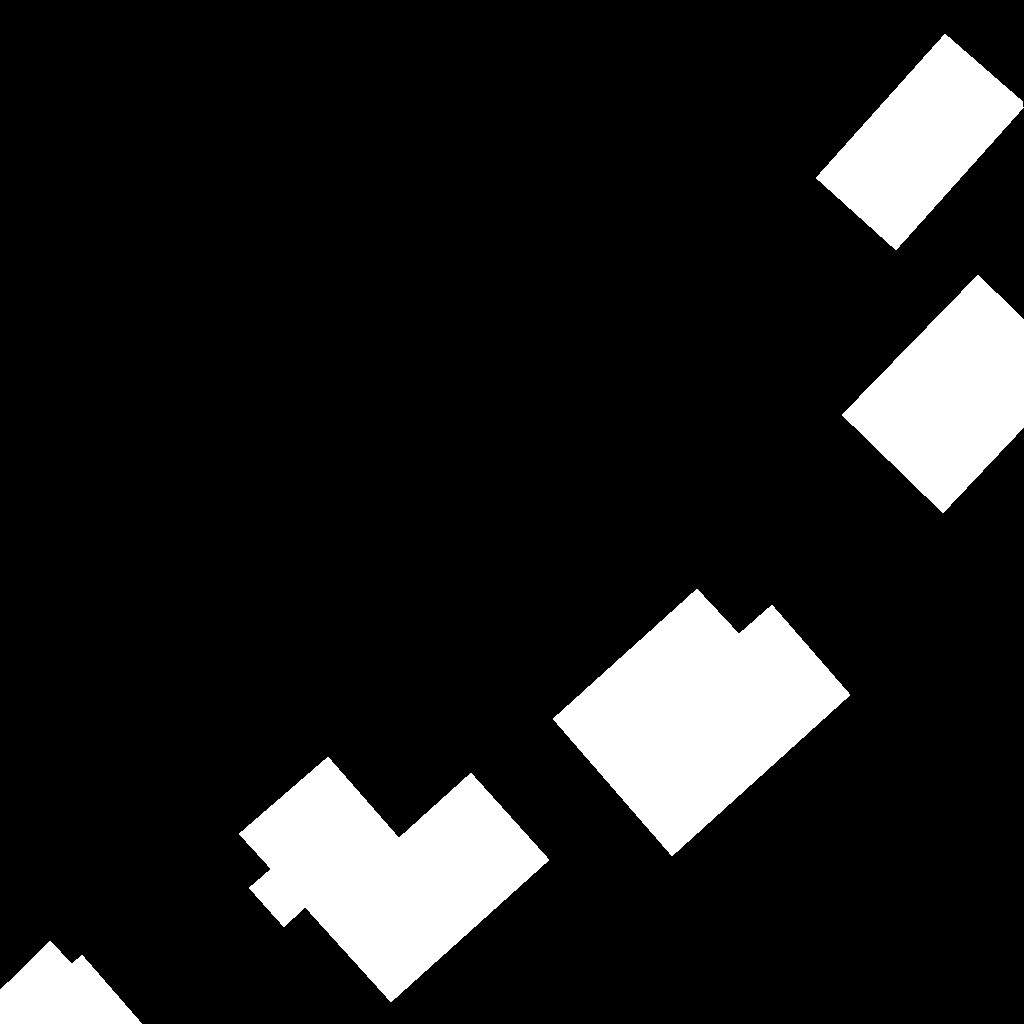building: (553, 589, 851, 857), (239, 757, 550, 1003), (816, 34, 1024, 251), (842, 275, 1024, 514), (0, 941, 143, 1024)
